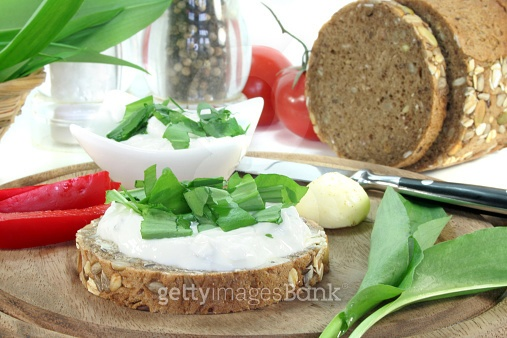slice of bread: (307, 2, 506, 185), (78, 190, 335, 315)
